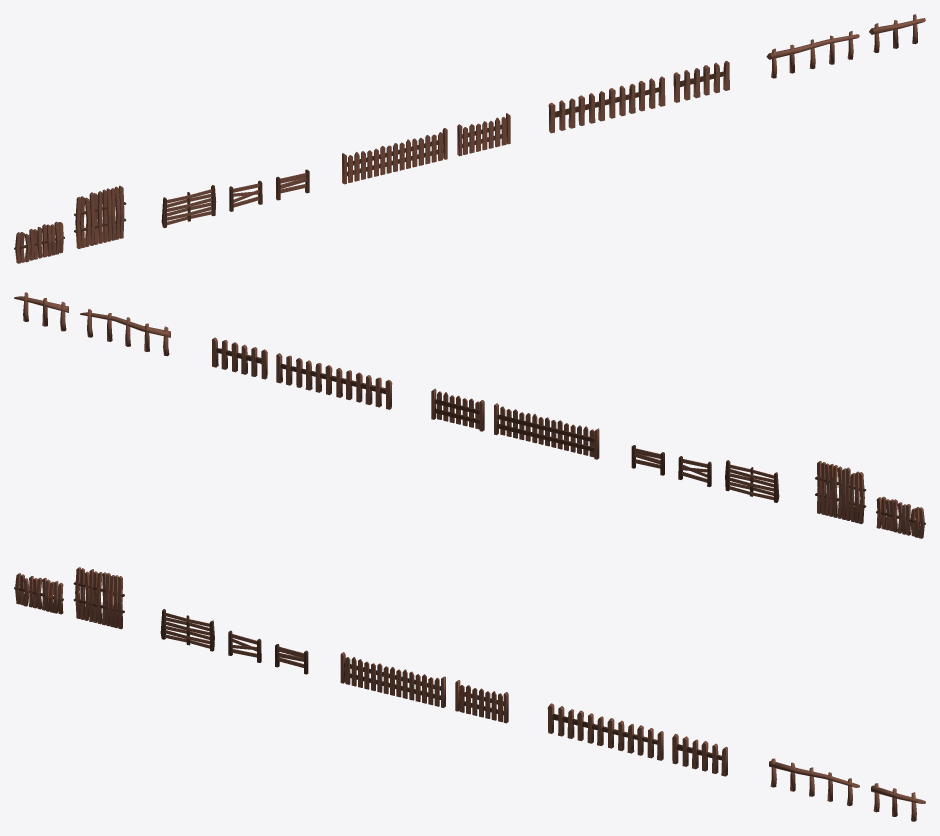
File: Fences_Smooth.fbx
3 renders of one model, top to bottom at view 1: azimuth 30°, elevation 25°; view 2: azimuth 150°, elevation 25°; view 3: azimuth 330°, elevation 25°, orthographic.
Visible parts, largest first — view 1: Fence_Smooth_Type 3_02, Fence_Smooth_Type 4_02, Fence_Smooth_Type 2_01, Fence_Smooth_Type 2_02, Fence_Smooth_Type 3_01, Fence_Smooth_Type 1_03, Fence_Smooth_Type 4_01, Fence_Smooth_Type 5_02, Fence_Smooth_Type 5_01, Fence_Smooth_Type 1_02, Fence_Smooth_Type 1_01; view 2: Fence_Smooth_Type 3_02, Fence_Smooth_Type 4_02, Fence_Smooth_Type 2_01, Fence_Smooth_Type 2_02, Fence_Smooth_Type 3_01, Fence_Smooth_Type 1_03, Fence_Smooth_Type 4_01, Fence_Smooth_Type 5_02, Fence_Smooth_Type 5_01, Fence_Smooth_Type 1_02, Fence_Smooth_Type 1_01; view 3: Fence_Smooth_Type 3_02, Fence_Smooth_Type 4_02, Fence_Smooth_Type 2_01, Fence_Smooth_Type 2_02, Fence_Smooth_Type 3_01, Fence_Smooth_Type 1_03, Fence_Smooth_Type 4_01, Fence_Smooth_Type 5_02, Fence_Smooth_Type 5_01, Fence_Smooth_Type 1_02, Fence_Smooth_Type 1_01.
Part boxes in pixels (box(x1,y1,x2,y2)): Fence_Smooth_Type 3_02: box(342, 128, 447, 184); Fence_Smooth_Type 4_02: box(548, 76, 665, 133); Fence_Smooth_Type 2_01: box(74, 185, 126, 248); Fence_Smooth_Type 2_02: box(14, 221, 64, 263); Fence_Smooth_Type 3_01: box(457, 113, 510, 156); Fence_Smooth_Type 1_03: box(161, 185, 216, 227); Fence_Smooth_Type 4_01: box(673, 60, 729, 102); Fence_Smooth_Type 5_02: box(766, 31, 859, 78); Fence_Smooth_Type 5_01: box(869, 14, 925, 52); Fence_Smooth_Type 1_02: box(229, 180, 262, 211); Fence_Smooth_Type 1_01: box(276, 169, 309, 200); Fence_Smooth_Type 3_02: box(494, 403, 599, 459); Fence_Smooth_Type 4_02: box(276, 353, 392, 409); Fence_Smooth_Type 2_01: box(815, 461, 866, 524); Fence_Smooth_Type 2_02: box(876, 496, 925, 538); Fence_Smooth_Type 3_01: box(431, 388, 484, 431); Fence_Smooth_Type 1_03: box(725, 460, 779, 502); Fence_Smooth_Type 4_01: box(212, 337, 267, 379); Fence_Smooth_Type 5_02: box(80, 309, 170, 356); Fence_Smooth_Type 5_01: box(14, 292, 68, 331); Fence_Smooth_Type 1_02: box(678, 456, 711, 486); Fence_Smooth_Type 1_01: box(631, 445, 664, 475); Fence_Smooth_Type 3_02: box(340, 652, 445, 707); Fence_Smooth_Type 4_02: box(547, 703, 663, 760); Fence_Smooth_Type 2_01: box(73, 567, 124, 629); Fence_Smooth_Type 2_02: box(14, 573, 63, 614); Fence_Smooth_Type 3_01: box(455, 680, 508, 723); Fence_Smooth_Type 1_03: box(160, 609, 214, 651); Fence_Smooth_Type 4_01: box(672, 733, 727, 776); Fence_Smooth_Type 5_02: box(769, 758, 859, 806); Fence_Smooth_Type 5_01: box(871, 783, 925, 821); Fence_Smooth_Type 1_02: box(228, 630, 261, 662); Fence_Smooth_Type 1_01: box(275, 644, 308, 674).
Size of the model in its own units: 3262 by 178 by 32.27.
